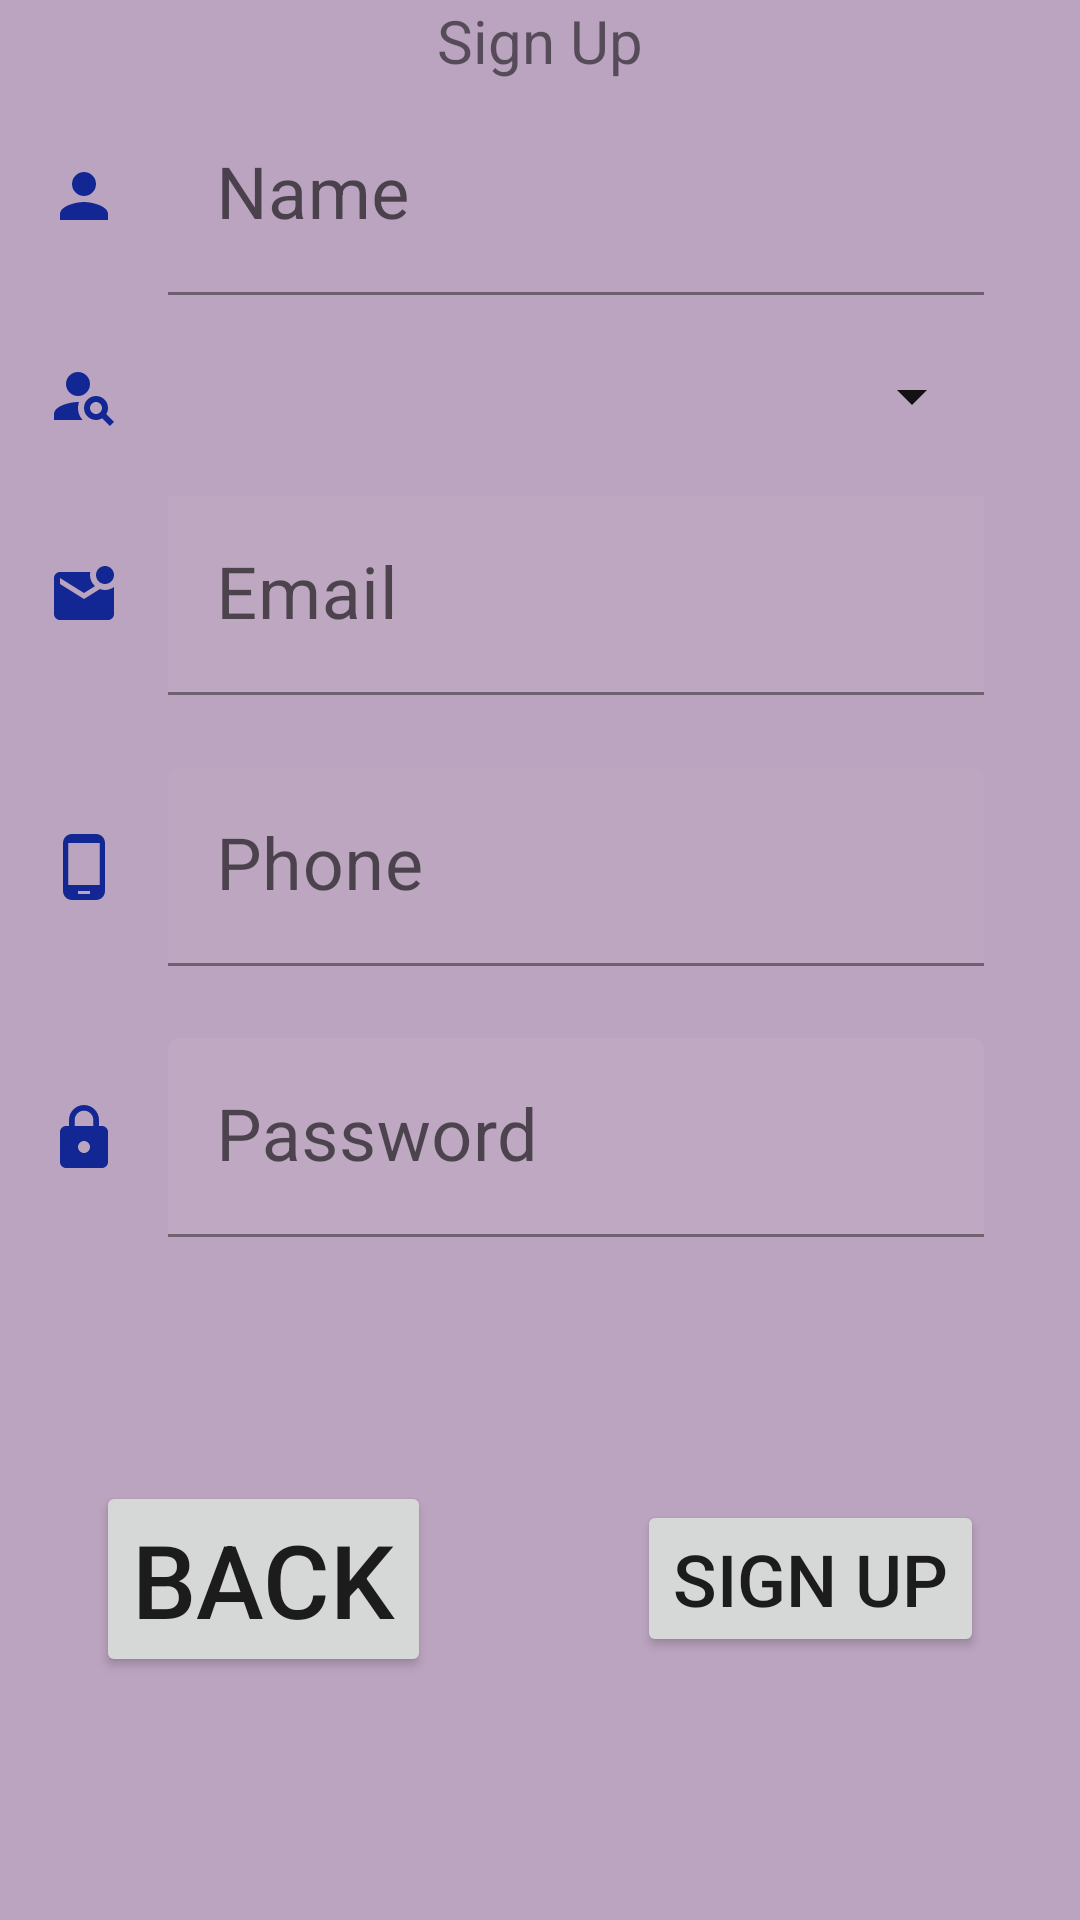

Icon click points for this 1080*1920 phone screenshot, format (x=x, y=y):
lock: (x=84, y=1136)
person: (x=84, y=196)
person search: (x=84, y=399)
